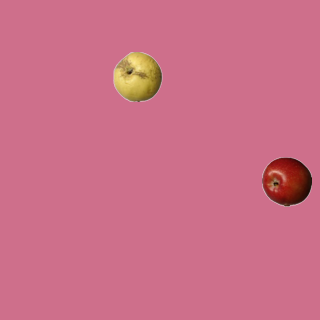Apple Braeburn: (261, 156, 311, 206)
Apple Golden 1: (112, 51, 162, 101)
